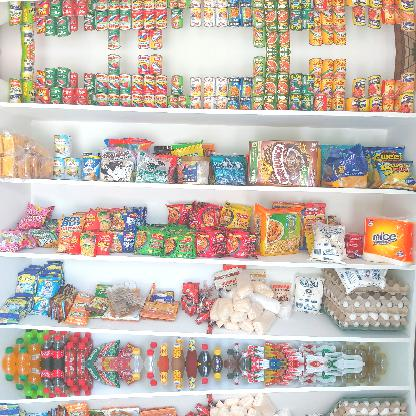Koko-Krunch: (248, 138, 320, 186)
Lady-s-Choice: (179, 152, 211, 186)
